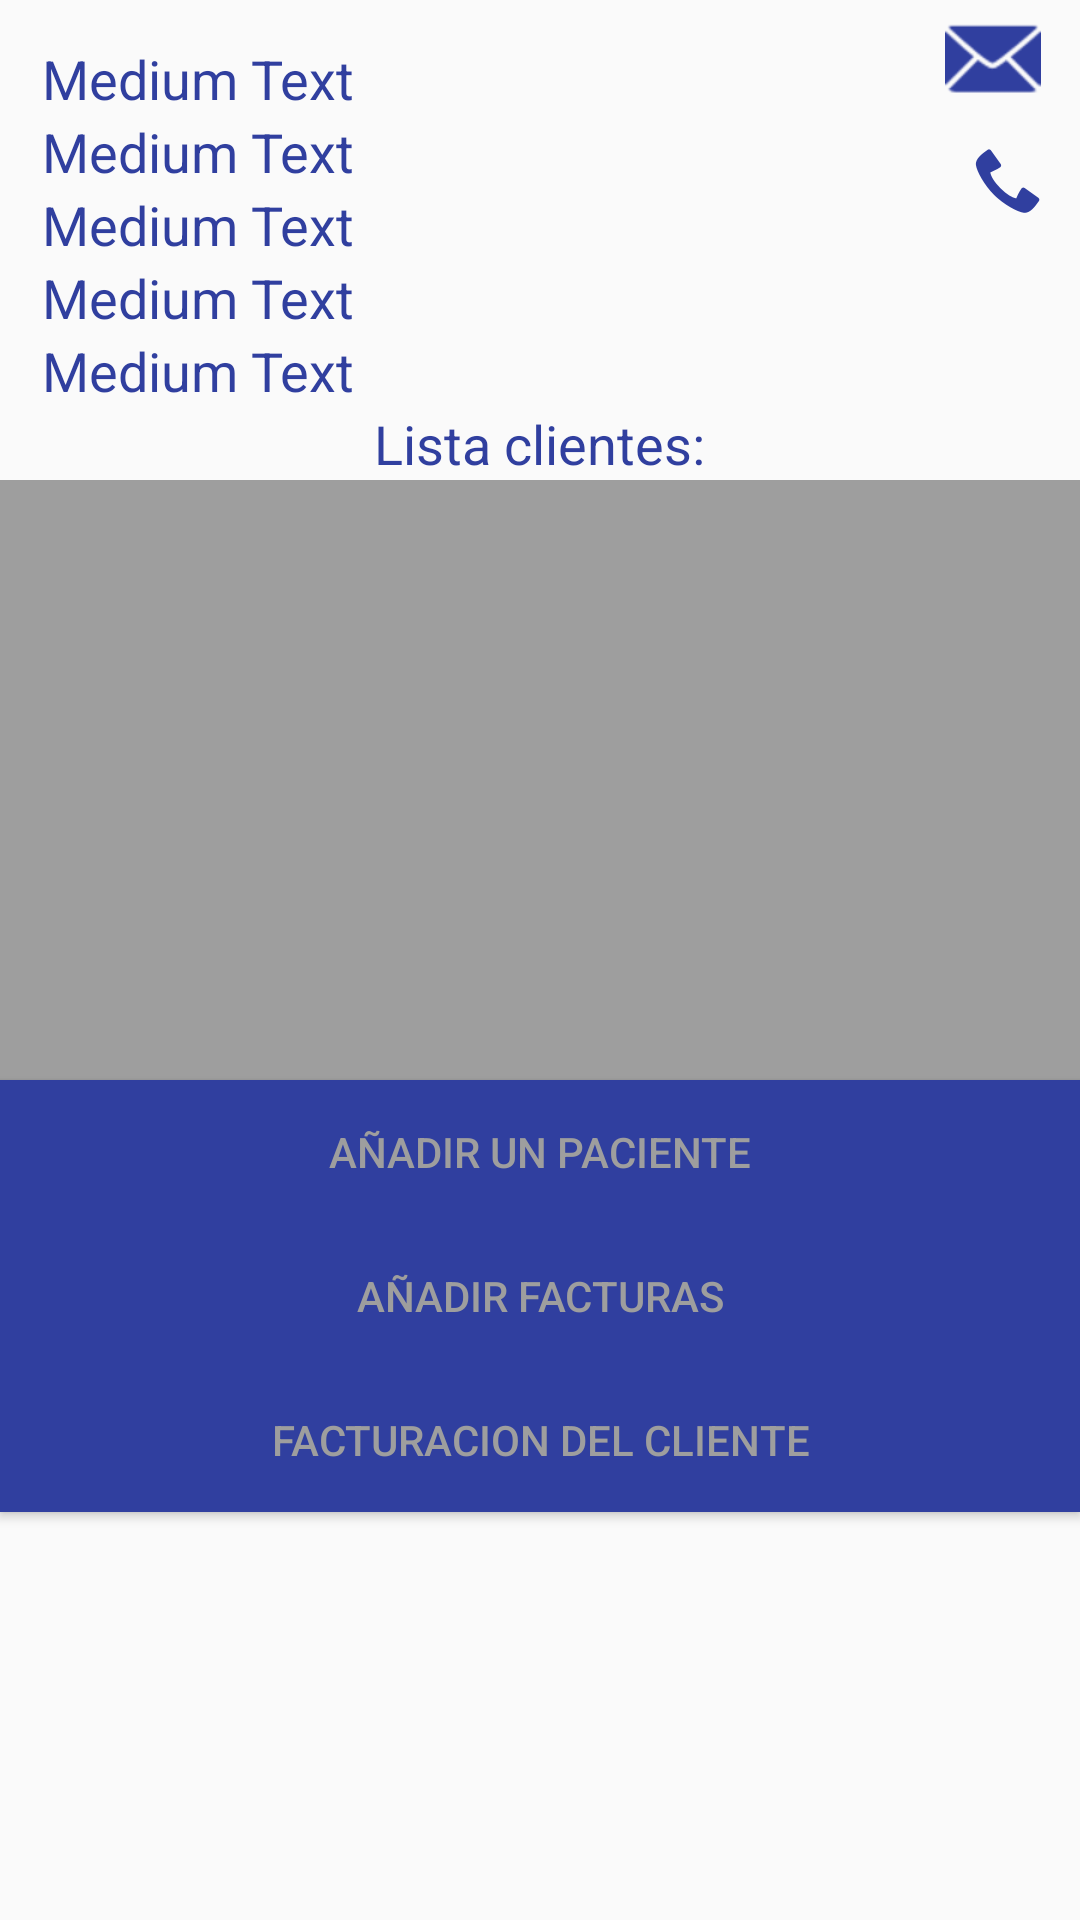

Where icons sit on this 1080 x 1920 app screen, as (x1, y1, x2, y2):
email: (945, 25, 1041, 93)
phone call: (976, 149, 1040, 213)
